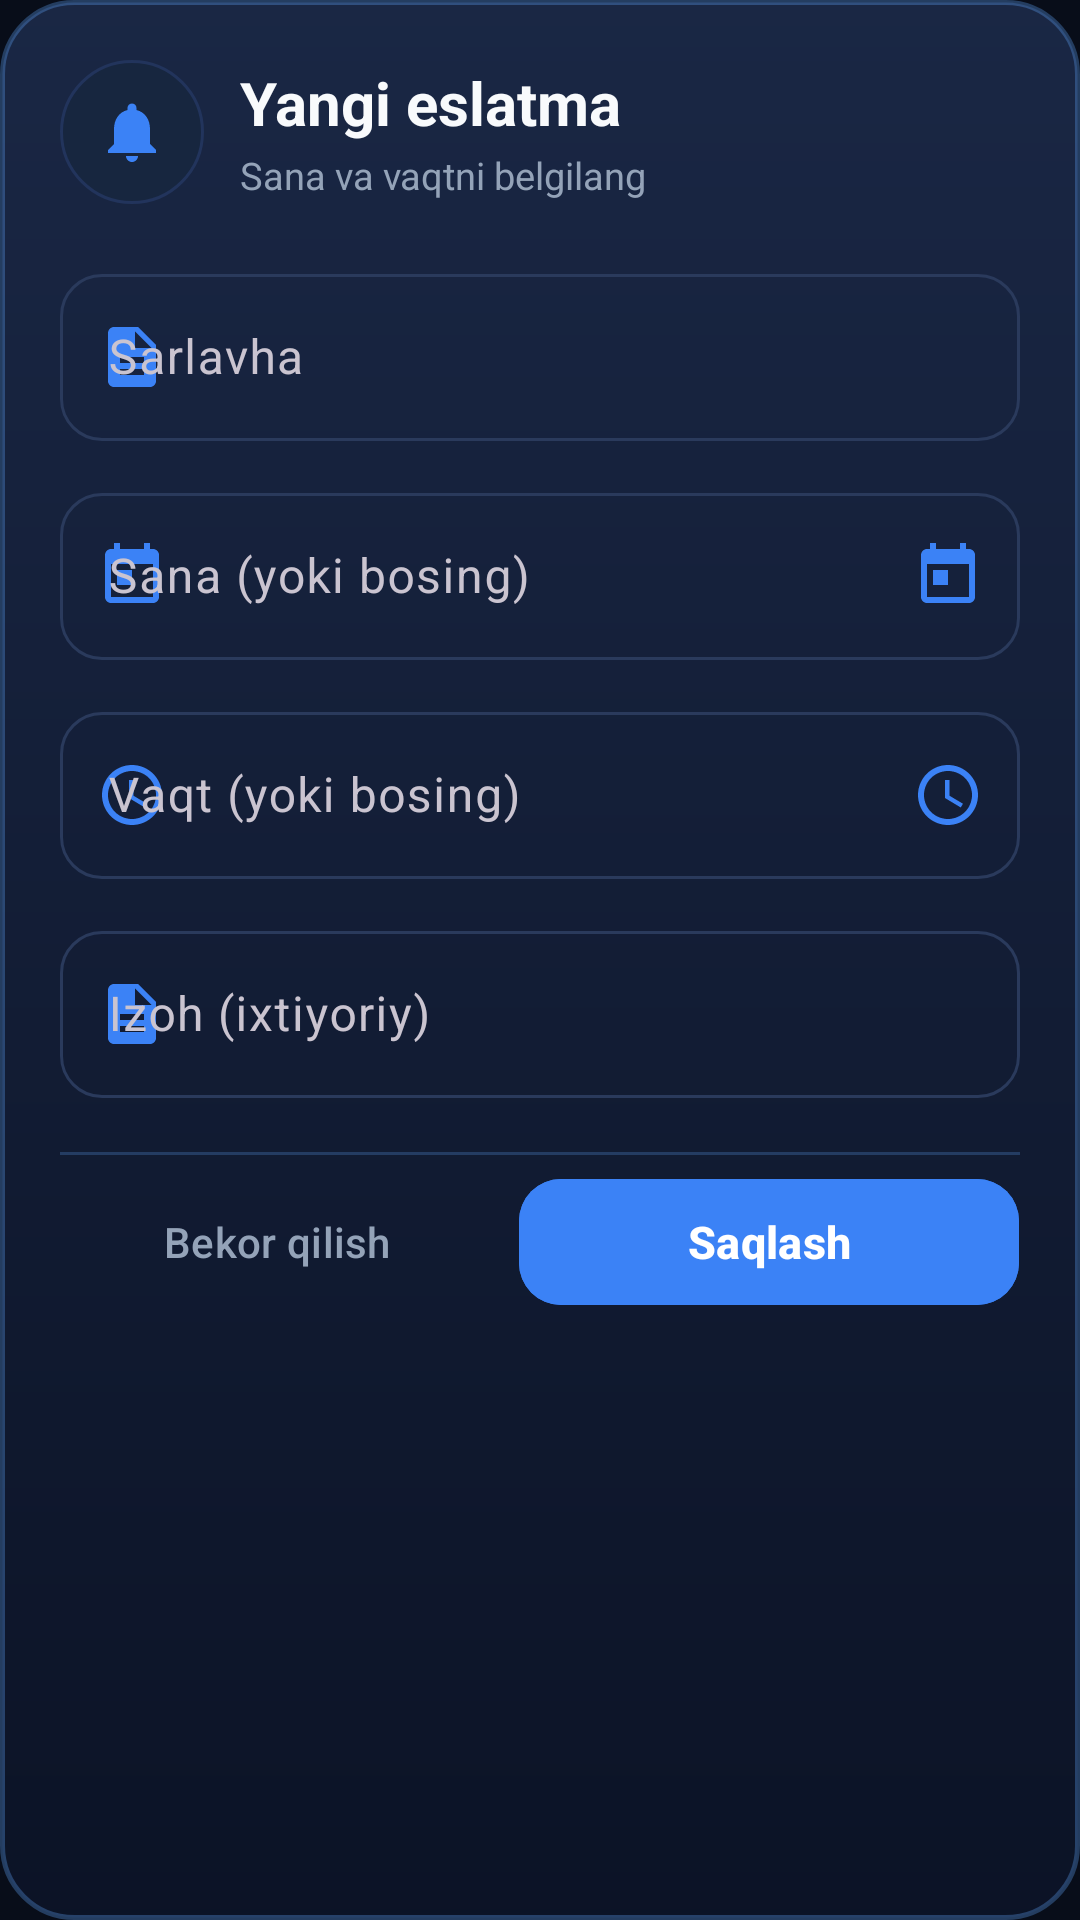

Icons on this 1080*1920 Android screen, each with the point to tap as (x,y):
bell: (132,132)
